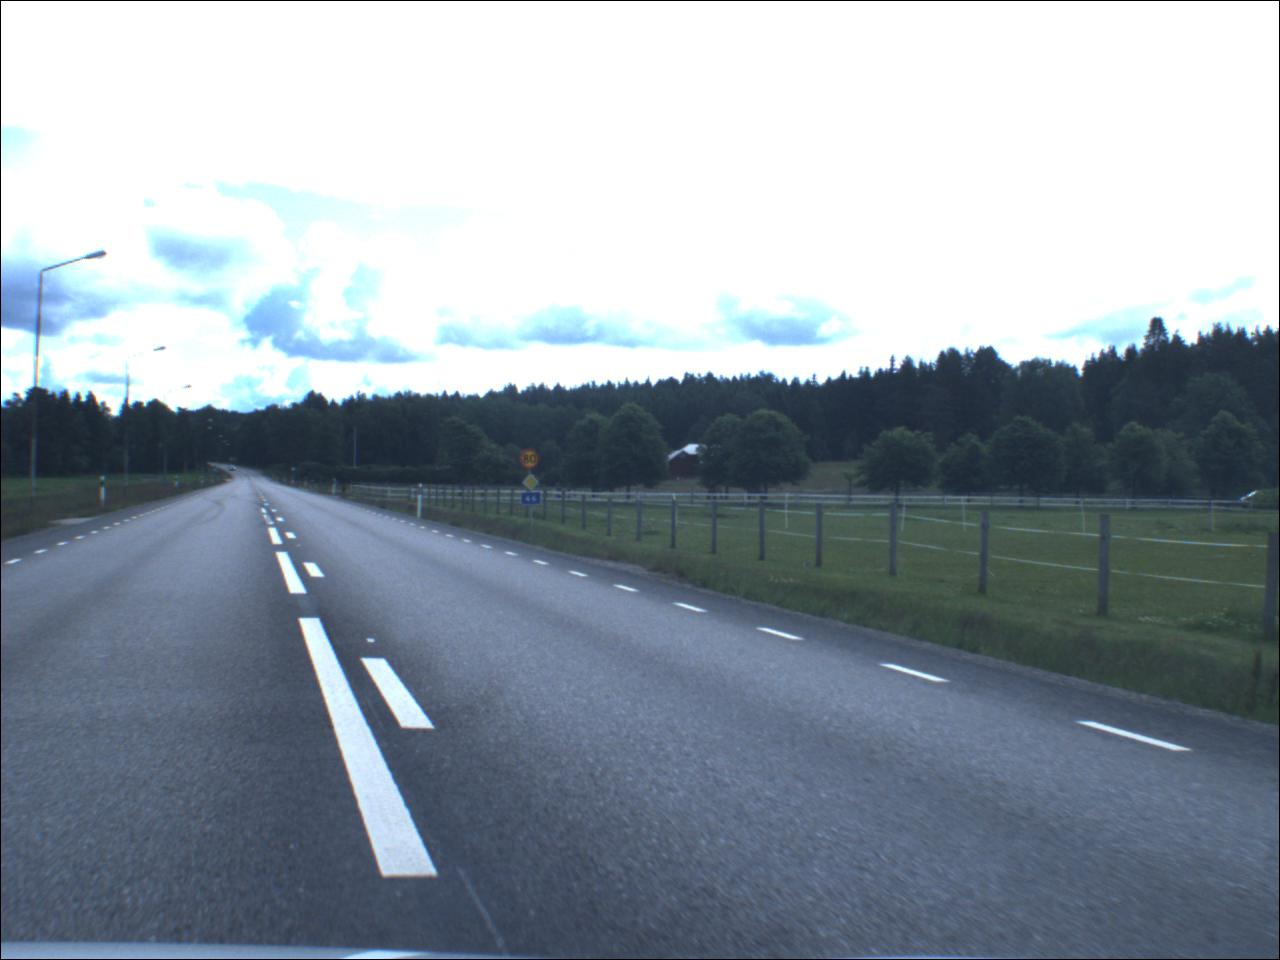80_SIGN: (520, 449, 544, 472)
PRIORITY_ROAD: (523, 476, 542, 494)
